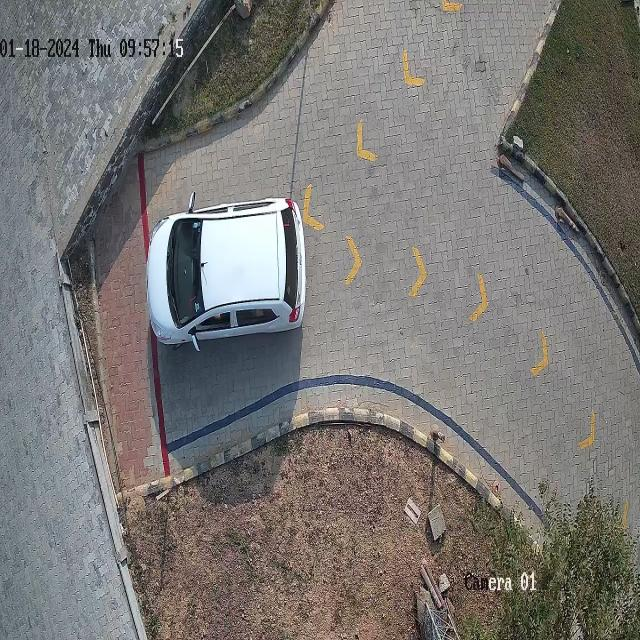car: (146, 193, 306, 349)
